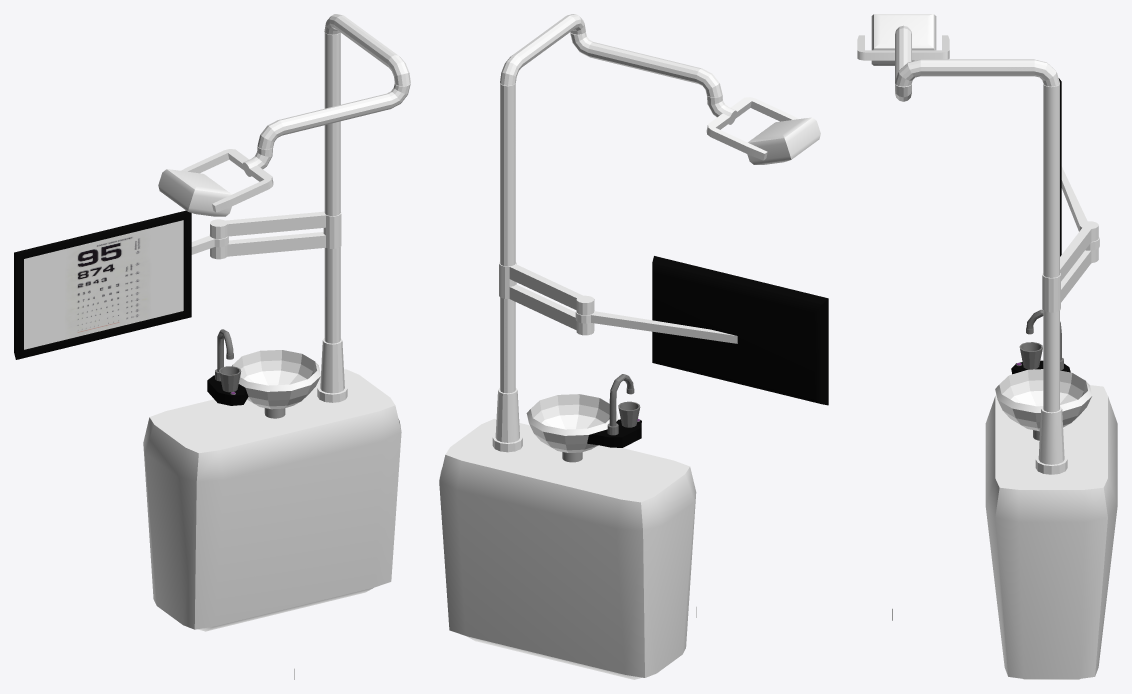
Rendered from TableLight.fbx.
3 views of the same model, side by side, from view 1: azimuth 30°, elevation 25°; view 2: azimuth 150°, elevation 25°; view 3: azimuth 270°, elevation 25° (orthographic). The views are drawn at different scales.
Visible parts, largest first — view 1: pCube22, pPlane1, pCylinder11, pCube81, pSphere1, pCylinder29, pTorus7, pCube25, pTorus6, pTorus5; view 2: pCube22, pCube81, pCylinder11, pSphere1, pCylinder29, pTorus7, pCube25, pTorus6, pCylinder28, pTorus5, pCylinder7; view 3: pCube22, pCylinder11, pSphere1, pTorus5, pCylinder29, pCube25, pTorus6, pTorus7, pCylinder28, pCylinder6.
Boxes of the visible parts, x1,y1,x2,y2 form: pCube22: (143, 369, 401, 631); pPlane1: (24, 220, 183, 349); pCylinder11: (317, 32, 347, 402); pCube81: (14, 210, 191, 359); pSphere1: (207, 350, 320, 409); pCylinder29: (210, 211, 341, 259); pTorus7: (257, 83, 410, 149); pCube25: (158, 169, 231, 216); pTorus6: (181, 146, 273, 212); pTorus5: (324, 14, 410, 86); pCube22: (439, 418, 696, 679); pCube81: (652, 256, 828, 405); pCylinder11: (492, 83, 522, 452); pSphere1: (526, 394, 641, 452); pCylinder29: (499, 262, 594, 335); pTorus7: (570, 32, 722, 97); pCube25: (747, 117, 820, 164); pTorus6: (706, 94, 798, 160); pCylinder28: (575, 310, 737, 343); pTorus5: (500, 14, 585, 85); pCylinder7: (607, 374, 634, 435); pCube22: (985, 385, 1117, 679); pCylinder11: (1035, 84, 1067, 474); pSphere1: (995, 360, 1092, 431); pTorus5: (895, 59, 1059, 86); pCylinder29: (1042, 221, 1098, 312); pCube25: (871, 14, 936, 65); pTorus6: (857, 35, 949, 60); pTorus7: (895, 25, 911, 101); pCylinder28: (1061, 166, 1099, 250); pCylinder6: (1019, 342, 1042, 369).
Bounding box in the file's own units: 168 × 254 × 96.85.
